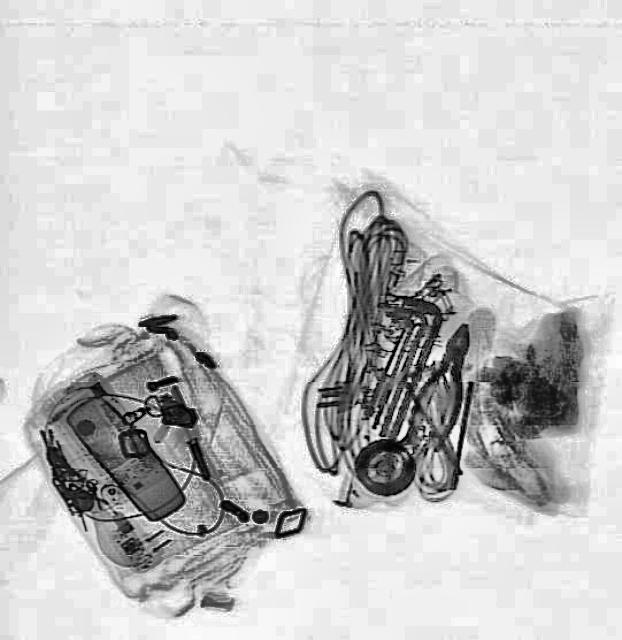Pliers: (396, 314, 490, 458)
